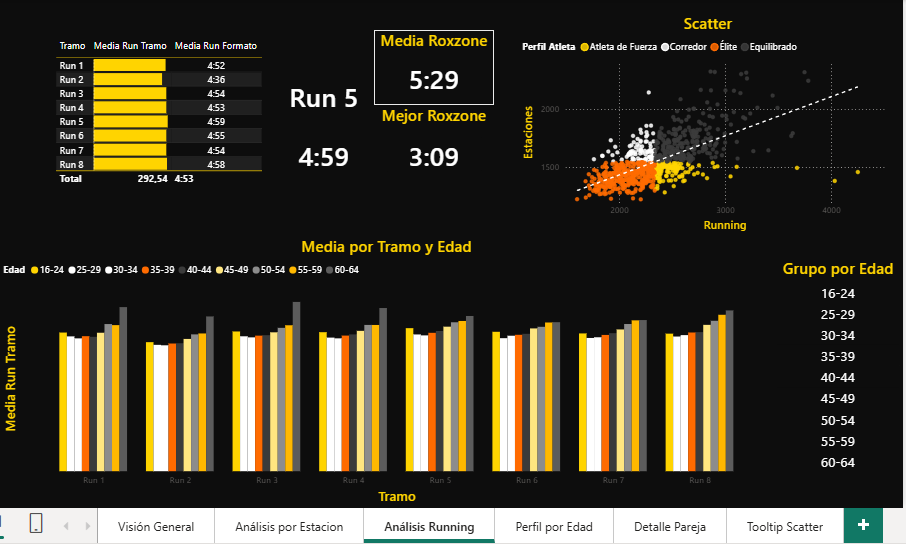

What the dashboard file says about the page in this screenshot:
{"tool":"powerbi","page":{"name":"Análisis Running","canvas":[1280,720],"ordinal":2},"visuals":[{"type":"listSlicer","title":"Grupo por Edad","fields":{"Values":["dim_categoria.grupo_edad"]},"box":[1095.1,365.5,184.9,354.1],"z":0},{"type":"tableEx","fields":{"Values":["running_largo.Tramo","_Medidas.Media Run Tramo","_Medidas.Media Run Formato"]},"box":[73.7,50.1,307.5,236.5],"z":1000},{"type":"cardVisual","fields":{"Data":["_Medidas.Run Critico"]},"box":[381.2,72.3,178.6,125.7],"z":2000},{"type":"cardVisual","fields":{"Data":["_Medidas.Run Critico Valor Formato"]},"box":[370.1,155.8,178.6,125.7],"z":3000},{"type":"clusteredColumnChart","title":"Media por Tramo y Edad","fields":{"Category":["running_largo.Tramo"],"Y":["_Medidas.Media Run Tramo"],"Series":["running_largo.grupo_edad"]},"box":[0,334.3,1095.7,385.7],"z":4000},{"type":"cardVisual","title":"Media Roxzone","fields":{"Data":["_Medidas.Media Roxzone"]},"box":[529.6,42.2,170.1,92.9],"z":5000},{"type":"cardVisual","title":"Mejor Roxzone","fields":{"Data":["_Medidas.Mejor Roxzone"]},"box":[529.6,135.1,170.1,98.9],"z":6000},{"type":"scatterChart","title":"Scatter","fields":{"X":["_Medidas.Run Total Seg Medida"],"Y":["_Medidas.Tiempo Total Estaciones Scatter"],"Category":["hyrox_bilbao_2026_master.nombres_pareja"],"Series":["hyrox_bilbao_2026_master.Perfil Atleta"]},"box":[735.9,18.1,535.7,315.8],"z":6001}]}

Visuals, with their boxes on the page's 1280x720 design canvas (x1, y1, x2, y2). These are canvas units, not pixel positions in the 906x544 screenshot, which may show the page scaled, cropped or inside an application window:
"Grupo por Edad" listSlicer: select_region(1095, 366, 1280, 720)
tableEx - running_largo.Tramo x _Medidas.Media Run Tramo: select_region(74, 50, 381, 287)
cardVisual - _Medidas.Run Critico: select_region(381, 72, 560, 198)
cardVisual - _Medidas.Run Critico Valor Formato: select_region(370, 156, 549, 282)
"Media por Tramo y Edad" clusteredColumnChart: select_region(0, 334, 1096, 720)
"Media Roxzone" cardVisual: select_region(530, 42, 700, 135)
"Mejor Roxzone" cardVisual: select_region(530, 135, 700, 234)
"Scatter" scatterChart: select_region(736, 18, 1272, 334)
